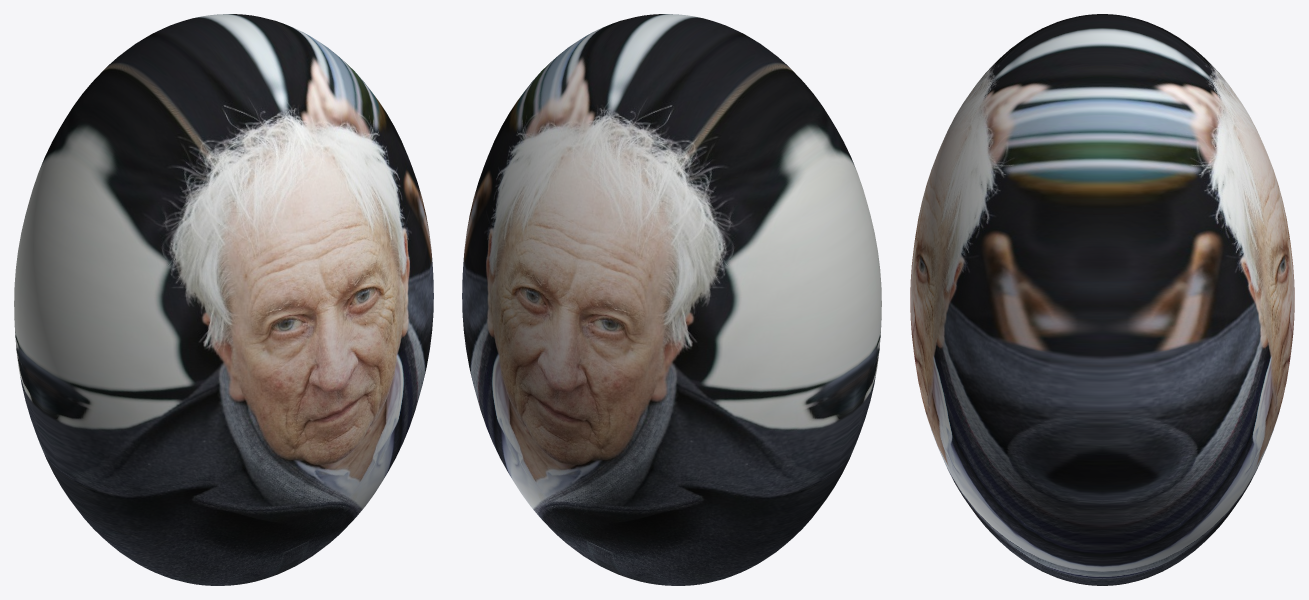
3 renders of one model, left to right at view 1: azimuth 30°, elevation 25°; view 2: azimuth 150°, elevation 25°; view 3: azimuth 270°, elevation 25°, orthographic.
Visible parts, largest first — view 1: head; view 2: head; view 3: head.
Boxes of the visible parts, x1,y1,x2,y2 form: head: (14, 14, 433, 585); head: (462, 14, 881, 585); head: (910, 14, 1294, 585).
Bounding box in the file's own units: 1.43 × 2 × 1.28.
1 material, 1 textured.
